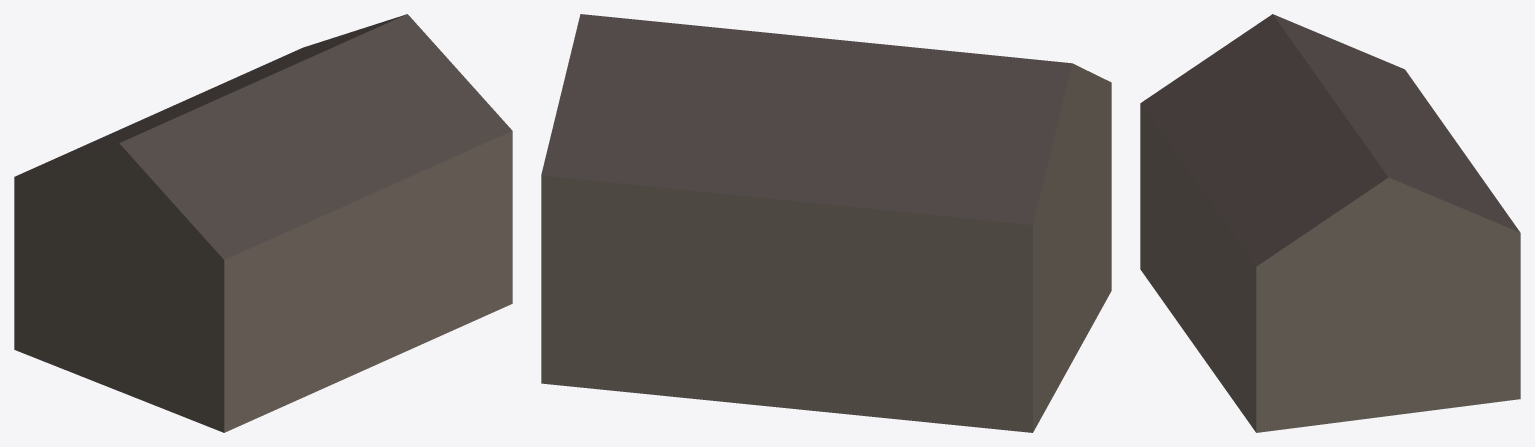
The picture shows the model from 3 angles, left to right: view 1: azimuth 30°, elevation 25°; view 2: azimuth 150°, elevation 25°; view 3: azimuth 270°, elevation 25°; orthographic projection. The views are drawn at different scales.
Parts seen in each view (by area): view 1: HP-w1200835406; view 2: HP-w1200835406; view 3: HP-w1200835406.
Part boxes in pixels (<box>): HP-w1200835406: <box>14,14,512,432</box>; HP-w1200835406: <box>541,14,1111,432</box>; HP-w1200835406: <box>1140,14,1520,432</box>.
Size of the model in its own units: 15.28 by 8.61 by 12.44.
